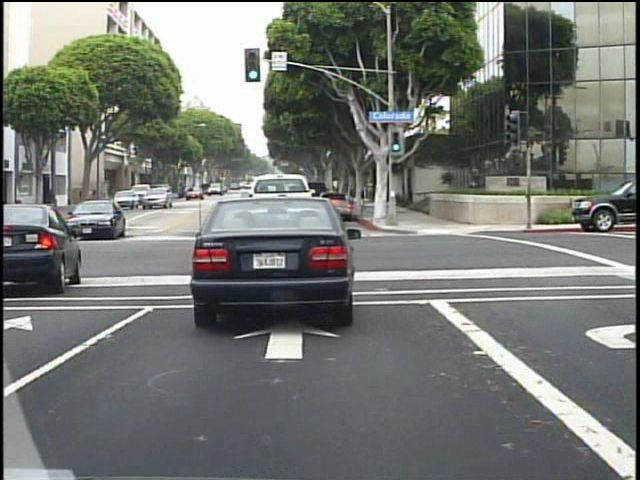person: (43, 186, 61, 219)
